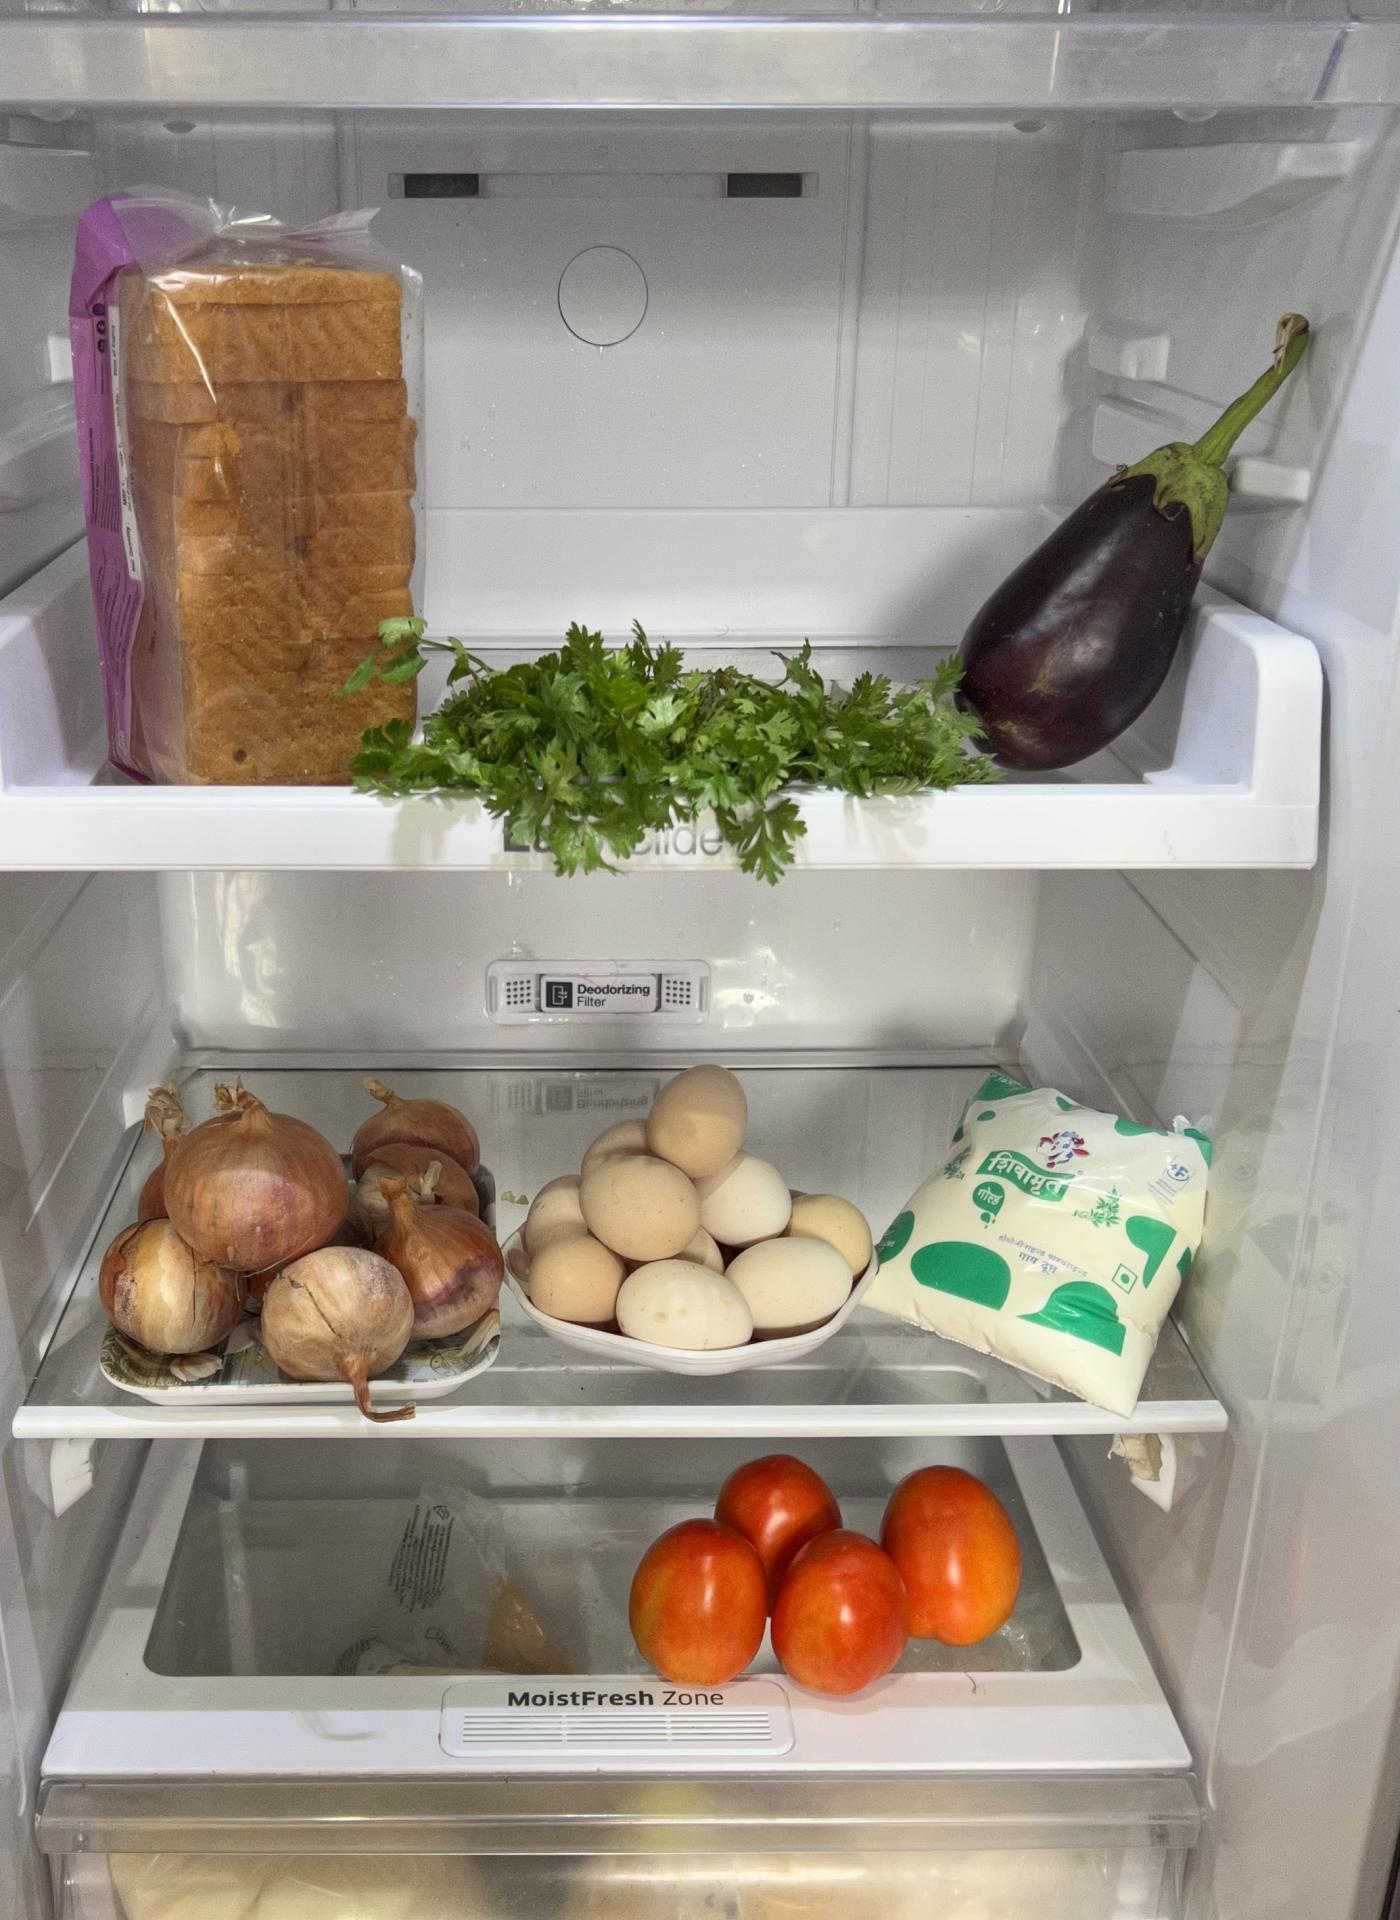bread: (48, 176, 414, 778)
coriander: (420, 626, 968, 839)
egg: (523, 1066, 875, 1358)
milk: (899, 1072, 1223, 1380)
onion: (95, 1073, 501, 1373)
tomato: (623, 1453, 1036, 1687)
